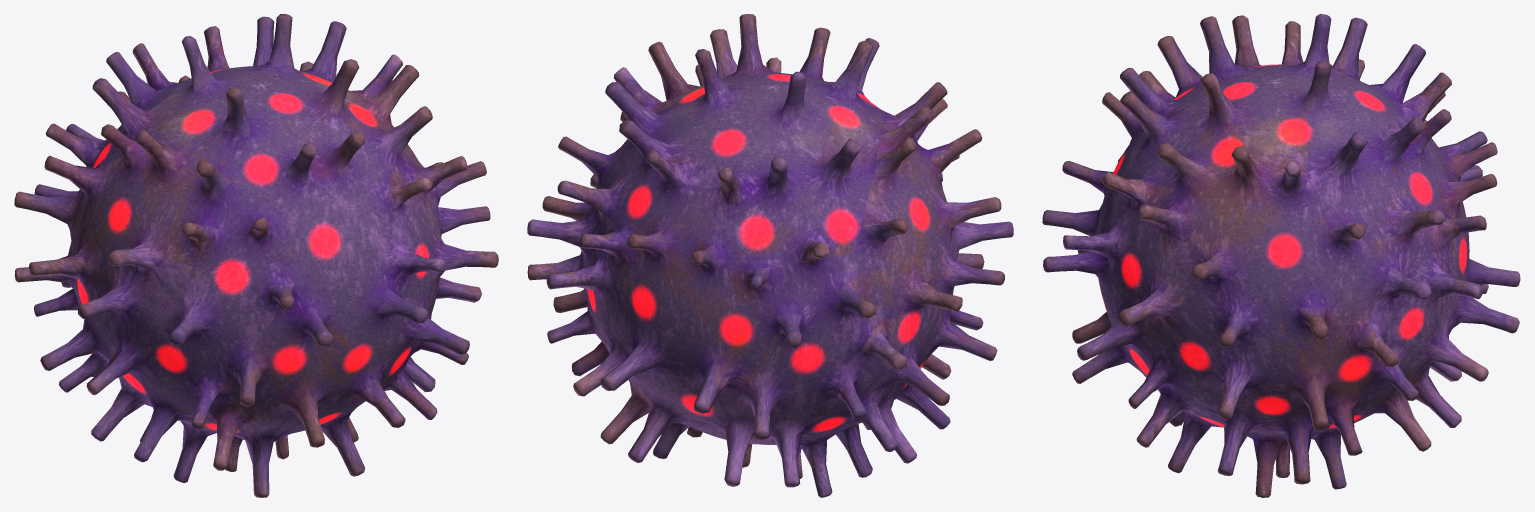
File: virus_3d.glb
3 renders of one model, left to right at view 1: azimuth 30°, elevation 25°; view 2: azimuth 150°, elevation 25°; view 3: azimuth 270°, elevation 25°, orthographic.
Parts seen in each view (by area): view 1: Icosphere; view 2: Icosphere; view 3: Icosphere.
Part boxes in pixels (x1,y1,x2,y2): Icosphere: (14, 14, 498, 497); Icosphere: (527, 14, 1013, 497); Icosphere: (1042, 14, 1520, 497).
Size of the model in its own units: 2 by 1.95 by 1.98.
1 material, 1 textured.
